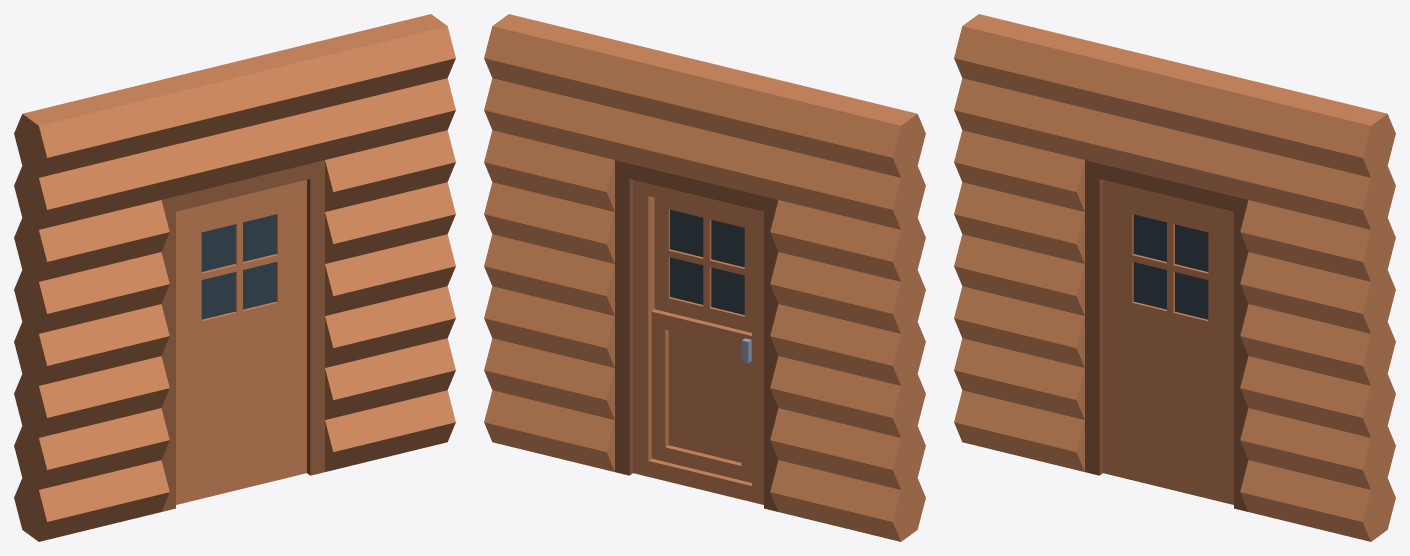
File: cabinDoor.dae
3 views of the same model, side by side, from view 1: azimuth 30°, elevation 25°; view 2: azimuth 150°, elevation 25°; view 3: azimuth 330°, elevation 25° (orthographic).
Parts seen in each view (by area): view 1: cabinDoor, door, frame; view 2: cabinDoor, door, frame; view 3: cabinDoor, door, frame.
Boxes of the visible parts, x1,y1,x2,y2 form: cabinDoor: [14, 14, 455, 541]; door: [176, 180, 306, 504]; frame: [161, 160, 324, 511]; cabinDoor: [484, 14, 925, 541]; door: [633, 180, 763, 504]; frame: [615, 160, 778, 511]; cabinDoor: [954, 14, 1395, 541]; door: [1103, 180, 1233, 504]; frame: [1085, 160, 1248, 511].
Bounding box in the file's own units: 1 × 0.9727 × 0.1404.
